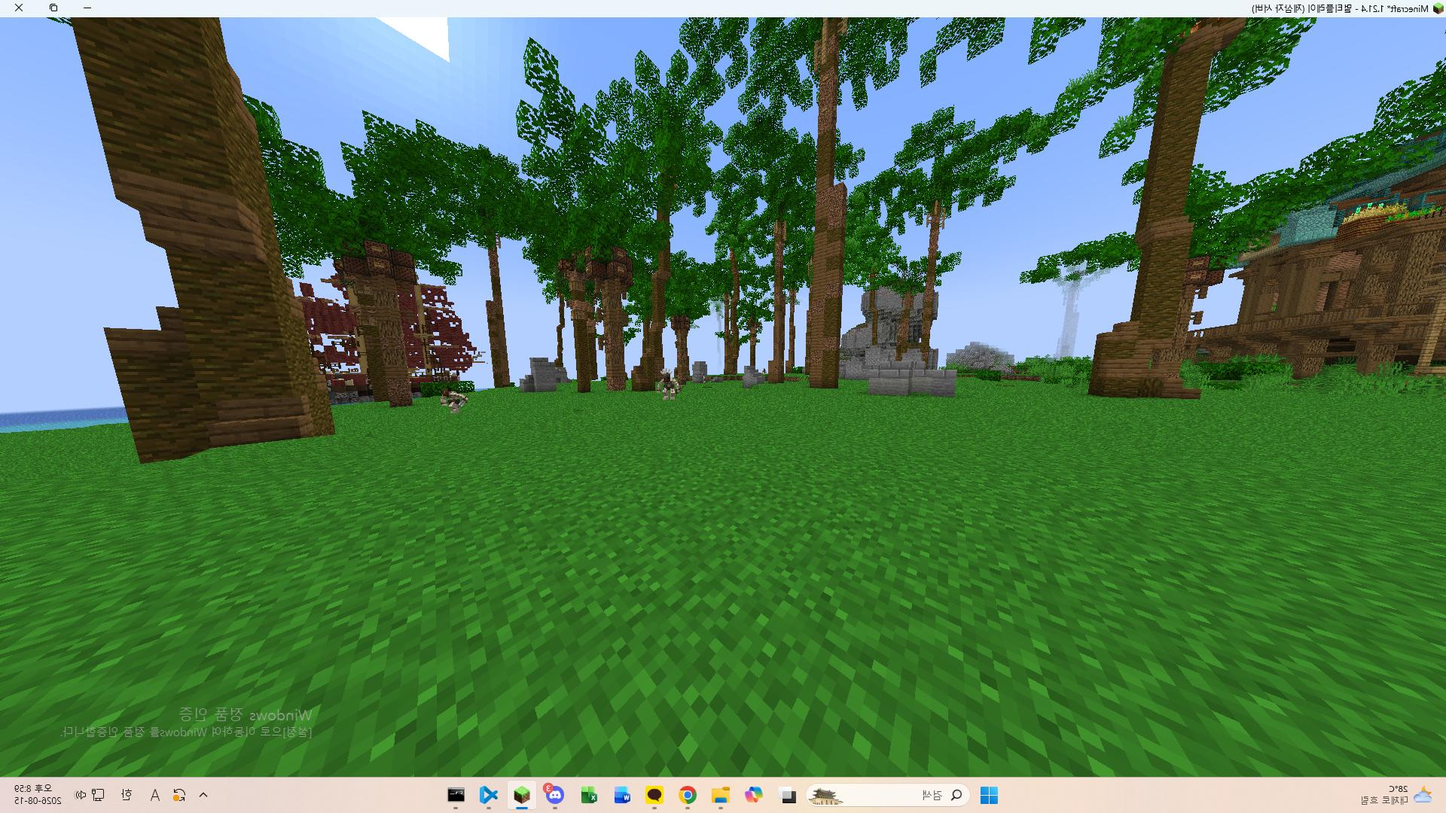bow_indian: (651, 366, 683, 413)
